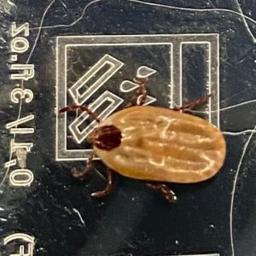Rhipicephalus sanguineus: (55, 81, 227, 201)
